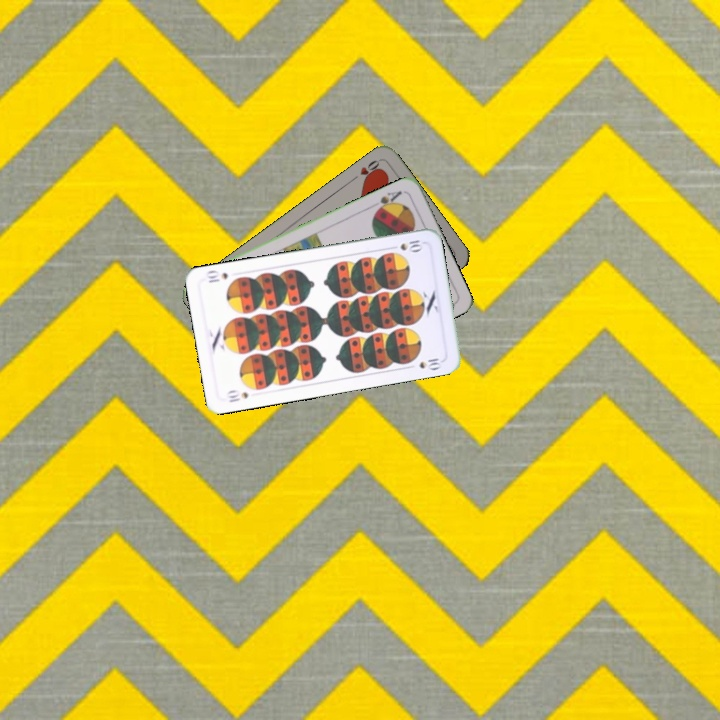HO: (347, 156, 384, 184)
S10: (385, 236, 425, 254), (223, 386, 251, 405)
SA: (371, 186, 405, 215)
